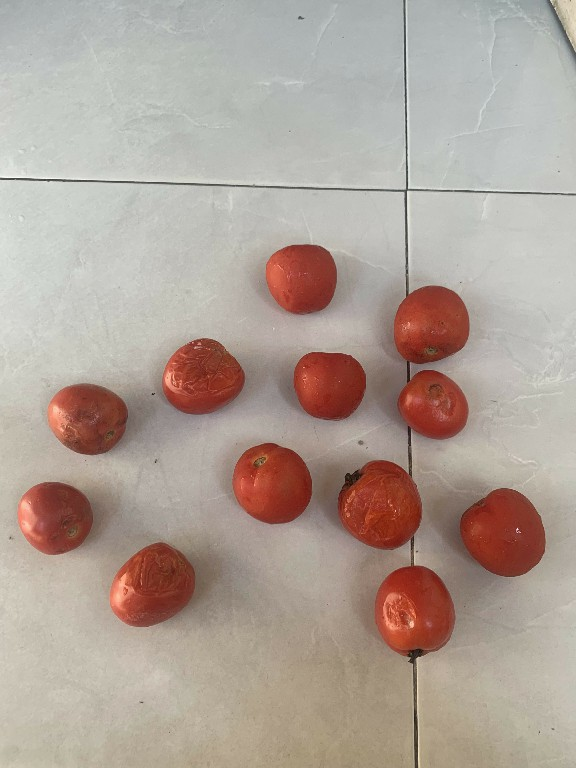NG: (368, 564, 461, 665), (335, 455, 429, 554), (107, 540, 204, 633), (158, 328, 249, 421), (43, 378, 132, 462), (15, 478, 102, 559), (391, 367, 475, 442)
OK: (455, 484, 559, 582), (229, 436, 316, 531), (294, 348, 378, 431), (393, 281, 475, 365), (268, 236, 346, 321)
